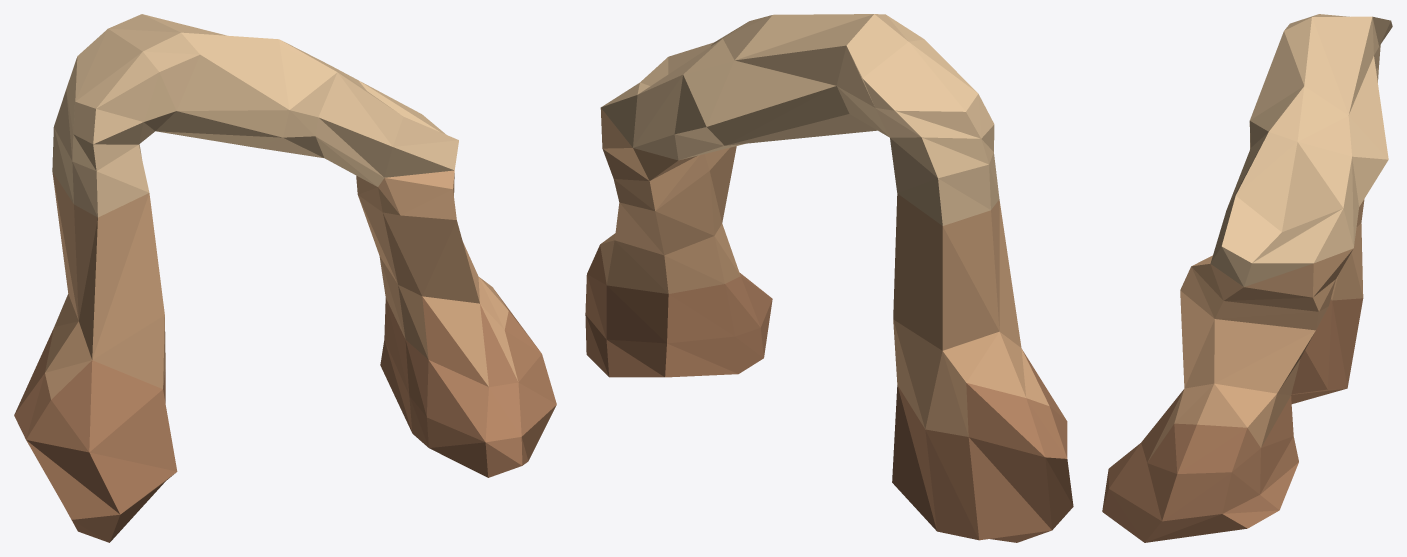
File: canyon-4-4.glb
The picture shows the model from 3 angles, left to right: view 1: azimuth 30°, elevation 25°; view 2: azimuth 150°, elevation 25°; view 3: azimuth 270°, elevation 25°; orthographic projection. The views are drawn at different scales.
Visible parts, largest first — view 1: canyon-4-4; view 2: canyon-4-4; view 3: canyon-4-4.
Boxes of the visible parts, bbox=[...] form: canyon-4-4: bbox=[14, 14, 556, 542]; canyon-4-4: bbox=[585, 14, 1073, 542]; canyon-4-4: bbox=[1102, 14, 1392, 542].
Bounding box in the file's own units: 29.37 × 28 × 16.68.
